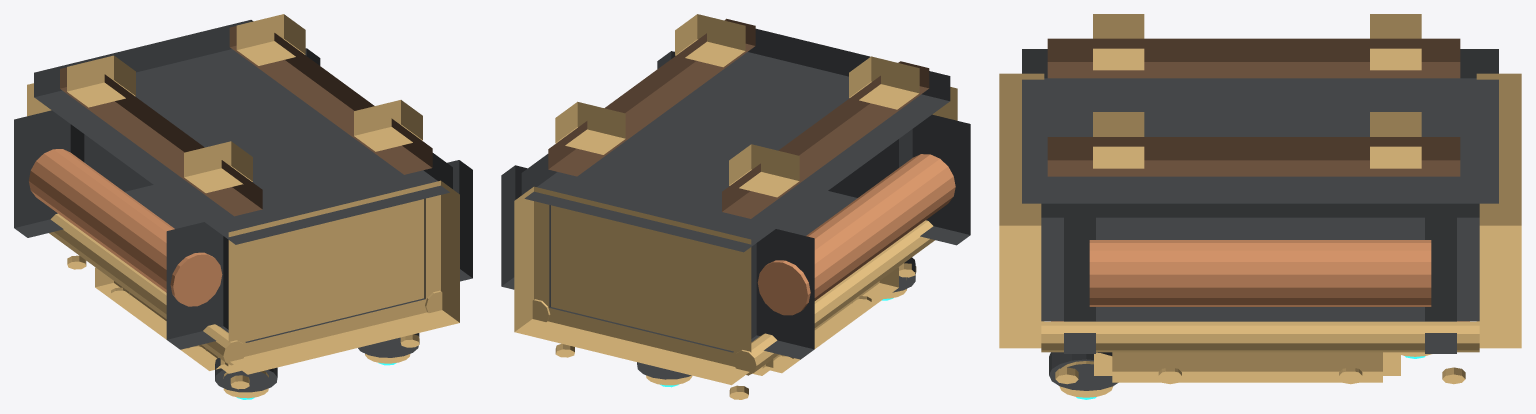
File: SM_Gnome_AetherTek_PowerNexus_FuelCell_01_LOD0.glb
The picture shows the model from 3 angles, left to right: view 1: azimuth 30°, elevation 25°; view 2: azimuth 150°, elevation 25°; view 3: azimuth 270°, elevation 25°; orthographic projection. The views are drawn at different scales.
Visible parts, largest first — view 1: RearMount_DarkIron_SocketBackplate, TopLock_Brass_Collar, SideCapacitor_-25_CopperTube, RearLeather_Strap_18, RearLeather_Strap_-18, SideCapacitor_-25_DarkIronTopClamp, SideCapacitor_-25_DarkIronBottomClamp, SideRail_-25_BrassRoundSpine, Housing_DarkIron_CartridgeBody, RearMount_Brass_Lug_18_Lower, RearMount_Brass_Lug_-18_Lower, RearMount_Brass_Lug_-18_Upper (+5 smaller); view 2: RearMount_DarkIron_SocketBackplate, BottomLock_Brass_Collar, SideCapacitor_-25_CopperTube, RearLeather_Strap_18, RearLeather_Strap_-18, SideCapacitor_-25_DarkIronBottomClamp, SideCapacitor_-25_DarkIronTopClamp, SideRail_-25_BrassRoundSpine, Housing_DarkIron_CartridgeBody, RearMount_Brass_Lug_18_Upper, RearMount_Brass_Lug_-18_Lower, RearMount_Brass_Lug_18_Lower (+5 smaller); view 3: RearMount_DarkIron_SocketBackplate, SideCapacitor_25_CopperTube, Housing_DarkIron_CartridgeBody, RearLeather_Strap_-18, RearLeather_Strap_18, SideRail_25_BrassRoundSpine, TopLock_Brass_Collar, BottomLock_Brass_Collar, LensGuard_Brass_RightRail, SideCapacitor_25_DarkIronTopClamp, SideCapacitor_25_DarkIronBottomClamp, RearMount_Brass_Lug_-18_Lower (+6 smaller).
Part boxes in pixels (x1=…): RearMount_DarkIron_SocketBackplate: x1=34, y1=20, x2=452, y2=244; TopLock_Brass_Collar: x1=228, y1=180, x2=459, y2=374; SideCapacitor_-25_CopperTube: x1=29, y1=149, x2=222, y2=306; RearLeather_Strap_18: x1=229, y1=26, x2=432, y2=174; RearLeather_Strap_-18: x1=60, y1=67, x2=262, y2=216; SideCapacitor_-25_DarkIronTopClamp: x1=166, y1=222, x2=228, y2=349; SideCapacitor_-25_DarkIronBottomClamp: x1=14, y1=110, x2=84, y2=237; SideRail_-25_BrassRoundSpine: x1=49, y1=213, x2=245, y2=365; Housing_DarkIron_CartridgeBody: x1=84, y1=134, x2=425, y2=342; RearMount_Brass_Lug_18_Lower: x1=236, y1=14, x2=305, y2=65; RearMount_Brass_Lug_-18_Lower: x1=67, y1=55, x2=135, y2=107; RearMount_Brass_Lug_-18_Upper: x1=184, y1=141, x2=252, y2=193; RearMount_DarkIron_SocketBackplate: x1=521, y1=28, x2=950, y2=252; BottomLock_Brass_Collar: x1=514, y1=186, x2=751, y2=385; SideCapacitor_-25_CopperTube: x1=757, y1=154, x2=955, y2=315; RearLeather_Strap_18: x1=548, y1=18, x2=755, y2=176; RearLeather_Strap_-18: x1=722, y1=61, x2=929, y2=218; SideCapacitor_-25_DarkIronBottomClamp: x1=751, y1=229, x2=814, y2=359; SideCapacitor_-25_DarkIronTopClamp: x1=899, y1=114, x2=970, y2=245; SideRail_-25_BrassRoundSpine: x1=733, y1=220, x2=934, y2=375; Housing_DarkIron_CartridgeBody: x1=549, y1=139, x2=898, y2=352; RearMount_Brass_Lug_18_Upper: x1=675, y1=14, x2=745, y2=67; RearMount_Brass_Lug_-18_Lower: x1=729, y1=144, x2=799, y2=197; RearMount_Brass_Lug_18_Lower: x1=555, y1=101, x2=625, y2=154; RearMount_DarkIron_SocketBackplate: x1=1022, y1=49, x2=1498, y2=203; SideCapacitor_25_CopperTube: x1=1089, y1=240, x2=1431, y2=306; Housing_DarkIron_CartridgeBody: x1=1041, y1=203, x2=1479, y2=321; RearLeather_Strap_-18: x1=1047, y1=38, x2=1460, y2=78; RearLeather_Strap_18: x1=1047, y1=137, x2=1460, y2=176; SideRail_25_BrassRoundSpine: x1=1041, y1=321, x2=1479, y2=352; TopLock_Brass_Collar: x1=999, y1=73, x2=1044, y2=348; BottomLock_Brass_Collar: x1=1476, y1=73, x2=1521, y2=348; LensGuard_Brass_RightRail: x1=1112, y1=352, x2=1382, y2=382; SideCapacitor_25_DarkIronTopClamp: x1=1064, y1=203, x2=1095, y2=353; SideCapacitor_25_DarkIronBottomClamp: x1=1425, y1=203, x2=1456, y2=353; RearMount_Brass_Lug_-18_Lower: x1=1370, y1=14, x2=1421, y2=70.
Bounding box in the file's own units: 62 × 47.4 × 81.
